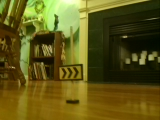right: (58, 65, 84, 79)
